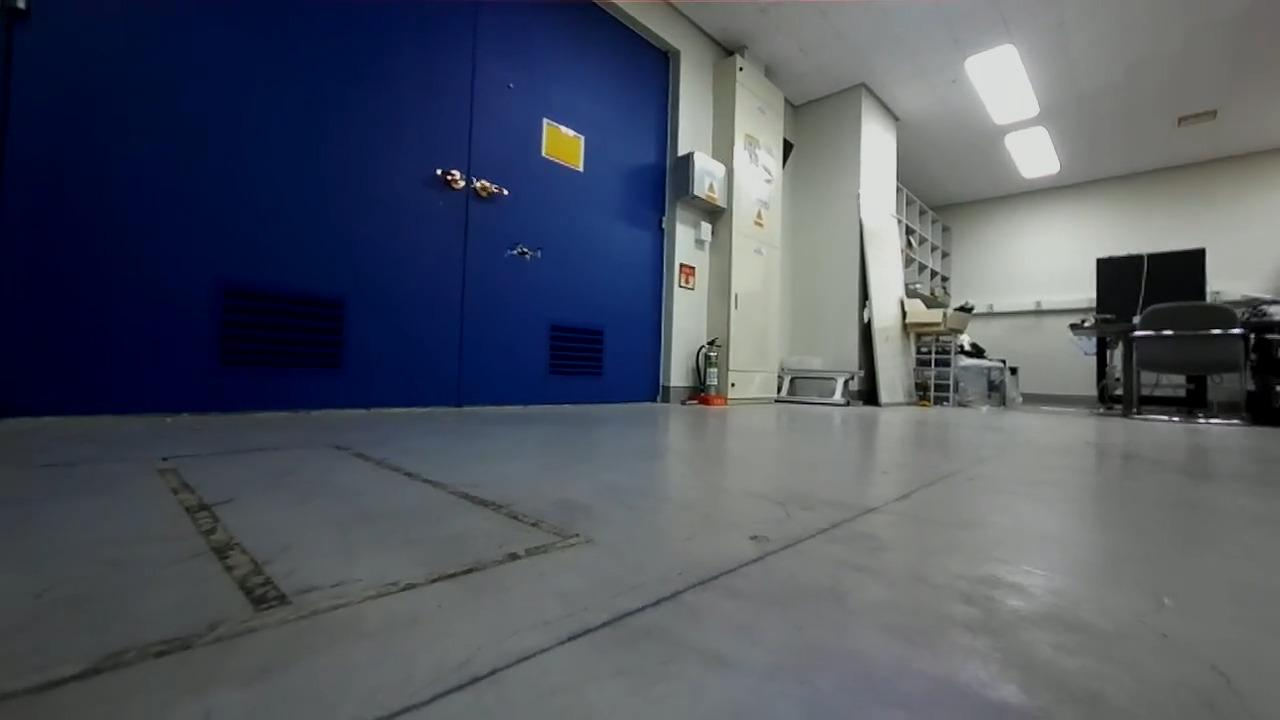crazyflie: (496, 236, 547, 266)
